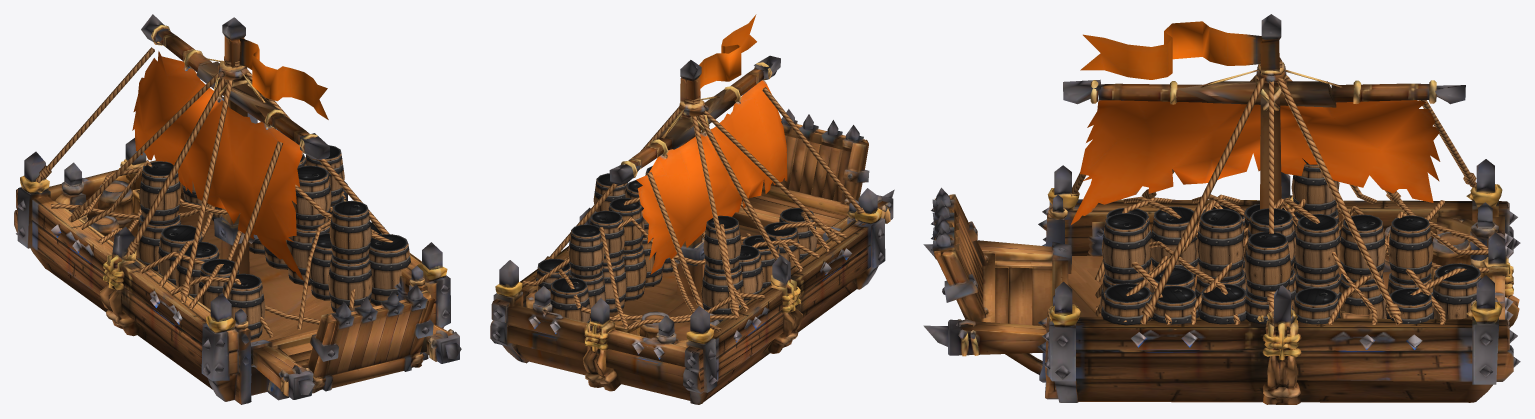
The model's file is POWDER BARGE.fbx.
3 views of the same model, side by side, from view 1: azimuth 30°, elevation 25°; view 2: azimuth 150°, elevation 25°; view 3: azimuth 270°, elevation 25° (orthographic). The views are drawn at different scales.
Visible parts, largest first — view 1: Ship_Hull, Ship_Barrels, Ship_Ropes; view 2: Ship_Hull, Ship_Barrels, Ship_Ropes; view 3: Ship_Hull, Ship_Barrels, Ship_Ropes.
Part boxes in pixels (x1,y1,x2,y2): Ship_Hull: (14, 14, 461, 404); Ship_Barrels: (136, 145, 410, 340); Ship_Ropes: (35, 47, 392, 337); Ship_Hull: (490, 14, 894, 404); Ship_Barrels: (536, 166, 817, 322); Ship_Ropes: (522, 87, 864, 332); Ship_Hull: (923, 14, 1520, 404); Ship_Barrels: (1099, 158, 1481, 325); Ship_Ropes: (1070, 57, 1488, 324).
Bounding box in the file's own units: 81.93 × 93.27 × 149.
Materials: 3 (3 with a texture image).
